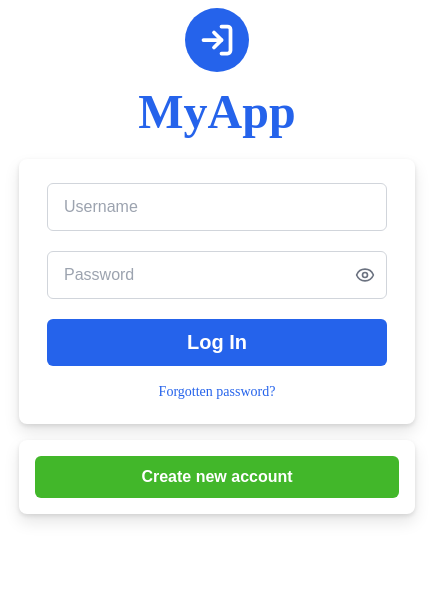
Scenario: LoginCard Component › displays error message when fields are empty
Click the button "Log In": (217, 342) top-left (47, 319), bottom-right (387, 366)
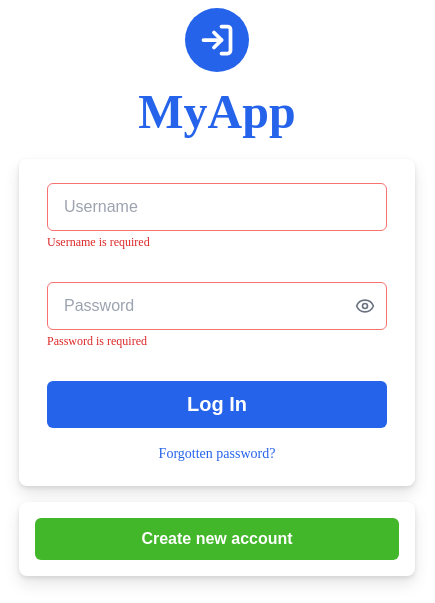
Now the text "Username is required" is shown, box top-left (47, 235), bottom-right (150, 249)
Now the text "Password is required" is shown, box top-left (47, 334), bottom-right (147, 348)
